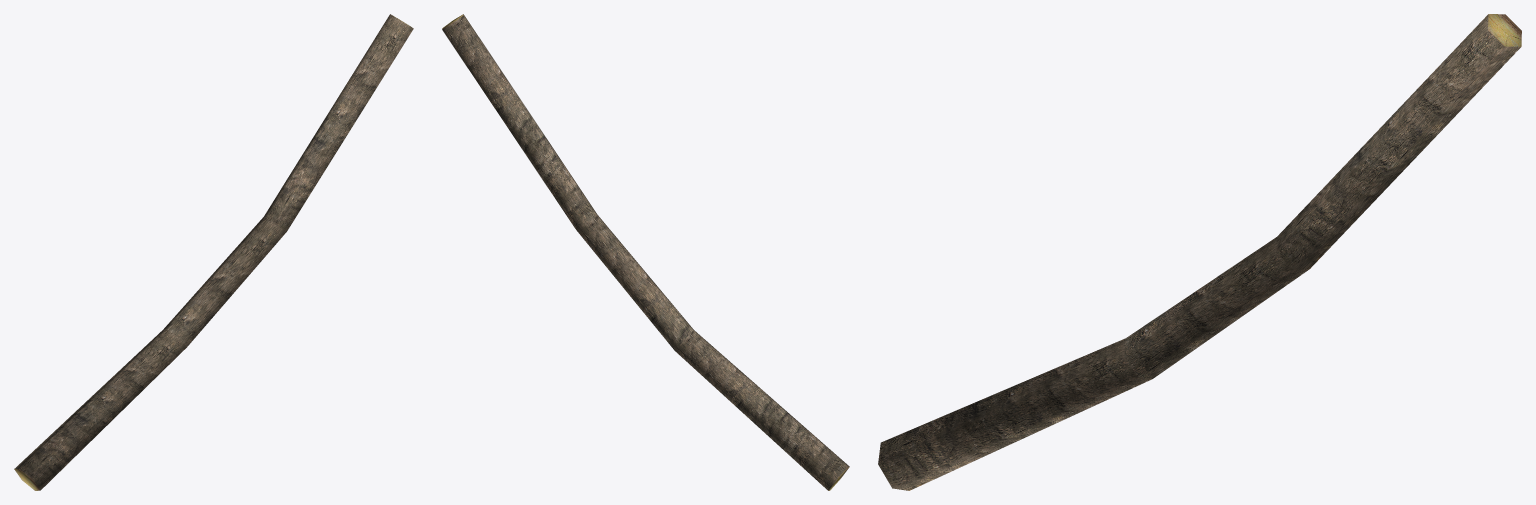
File: fracturePiece2.fbx
The picture shows the model from 3 angles, left to right: view 1: azimuth 30°, elevation 25°; view 2: azimuth 150°, elevation 25°; view 3: azimuth 330°, elevation 25°; orthographic projection. The views are drawn at different scales.
Parts seen in each view (by area): view 1: fracturePiece2; view 2: fracturePiece2; view 3: fracturePiece2.
Boxes of the visible parts, left/top/right/bottom form: fracturePiece2: left=14, top=14, right=413, bottom=490; fracturePiece2: left=442, top=14, right=849, bottom=490; fracturePiece2: left=878, top=14, right=1521, bottom=490.
Size of the model in its own units: 585 by 543 by 47.42.
